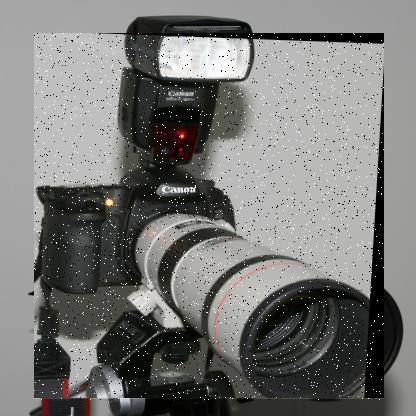Camera: (35, 35, 386, 403)
